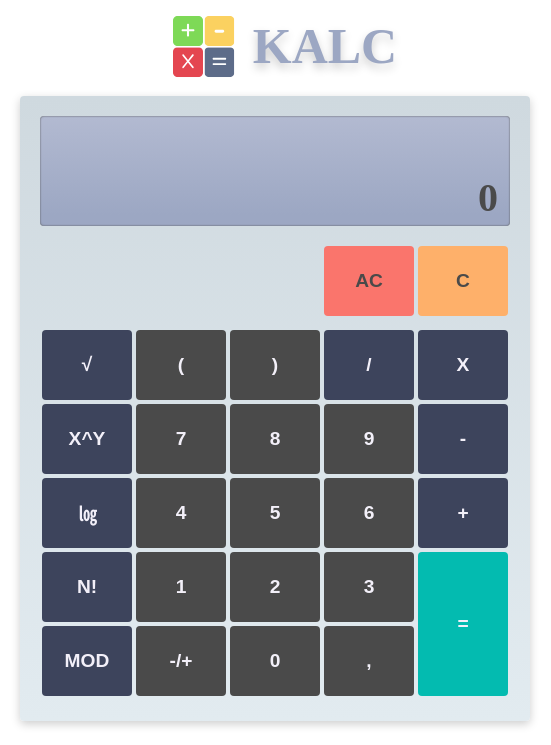
The keypad should › input a negative number and check if the display is correct
Click the button "2".
click(275, 587)  # box [230,552,320,622]
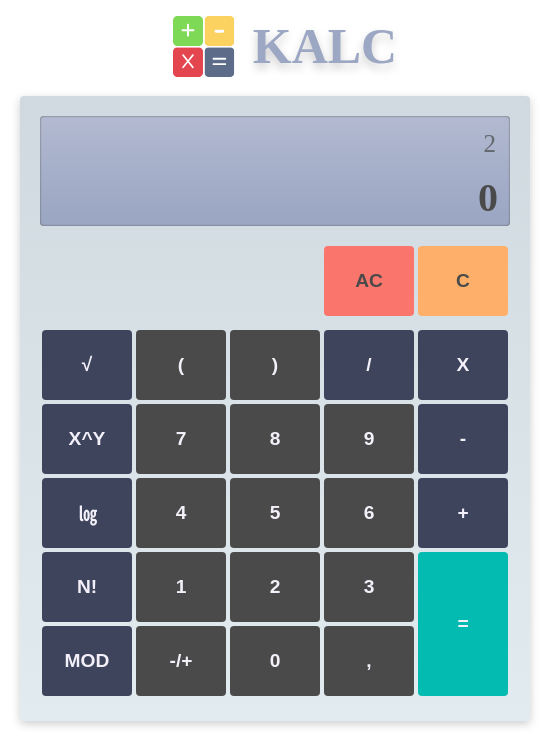
Click the button "-/+".
click(181, 661)  # box [136,626,226,696]
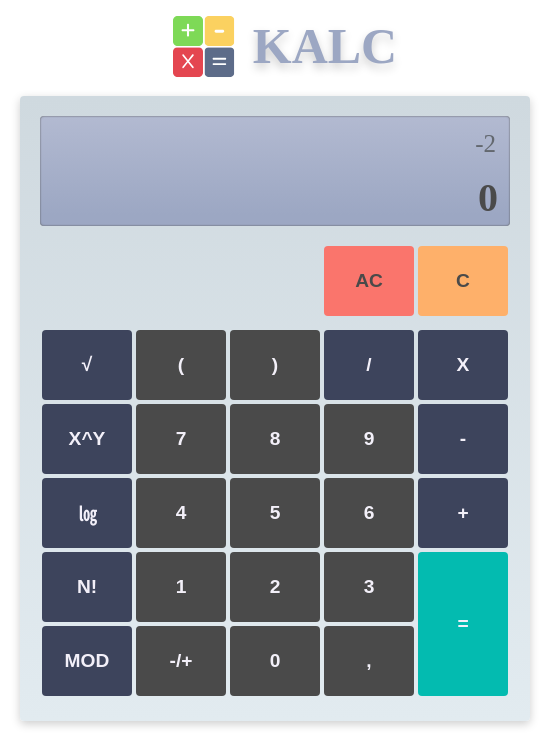
Now the field reads "-2", box [475,130,496,157]
